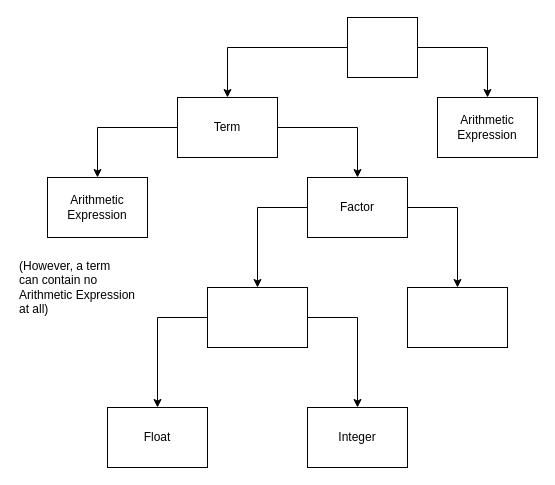
Some shapes in this 555 by 485 pixel diagram are drawn without their labels. The shapes that lost their labels are listed below. From the top down, each one's centre as x and y in pixels, then its label:
pixel 382 47: Input
pixel 257 317: Number
pixel 457 317: Variable
